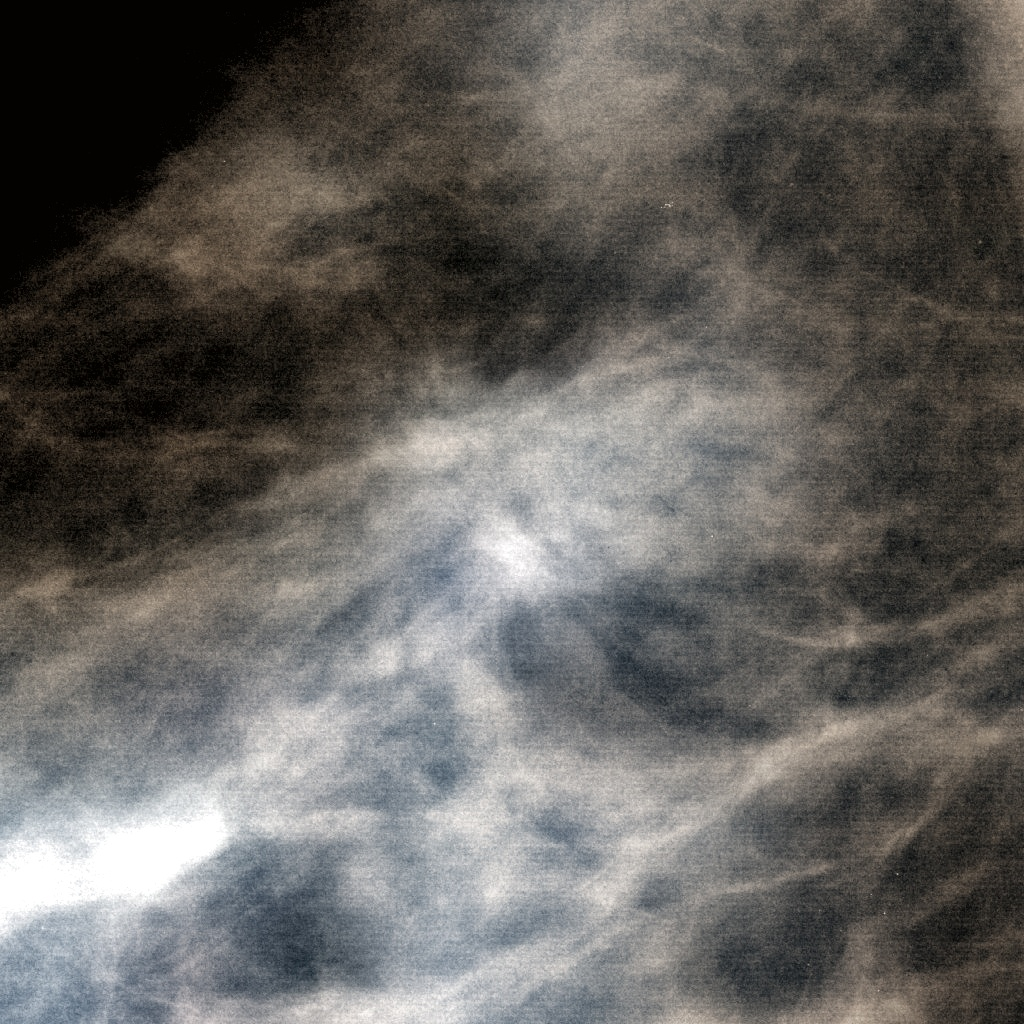tumor: (296, 320, 728, 704)
